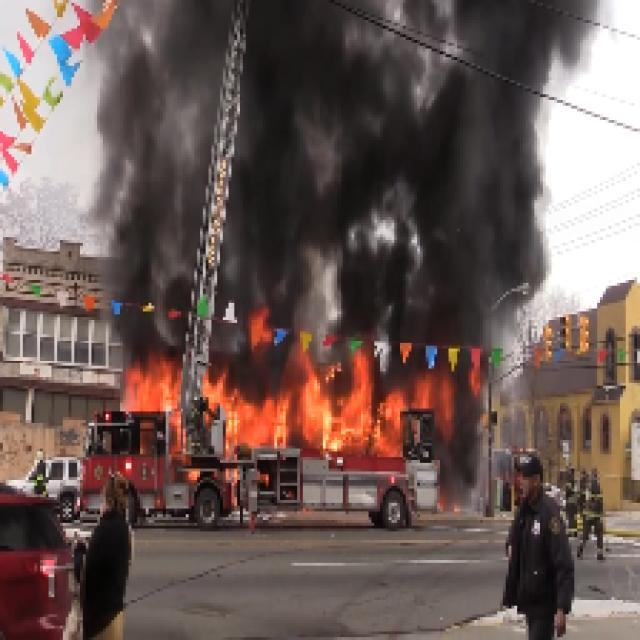Fire: (106, 358, 452, 466)
Smoke: (100, 0, 603, 300)
